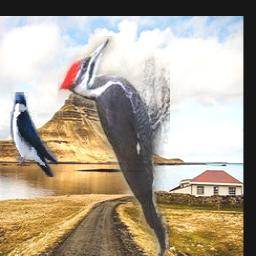Swallow: (12, 93, 59, 178)
Woodpecker: (59, 37, 171, 256)
